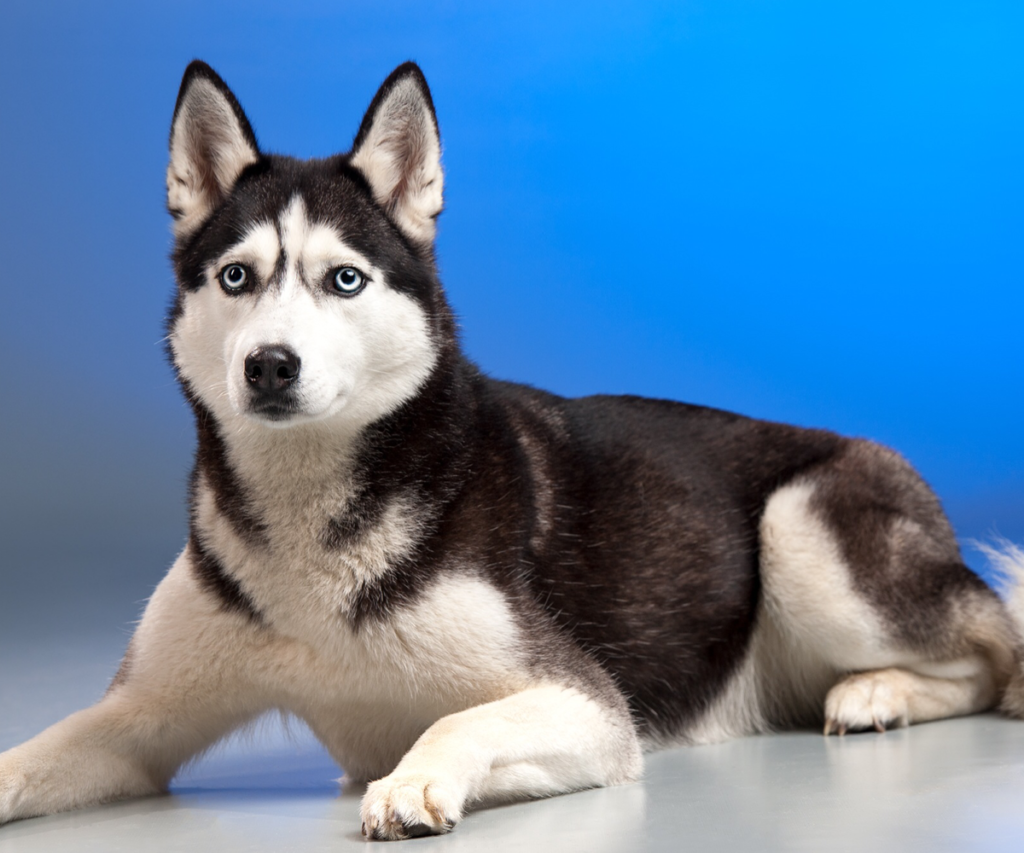husky: (126, 36, 680, 821)
